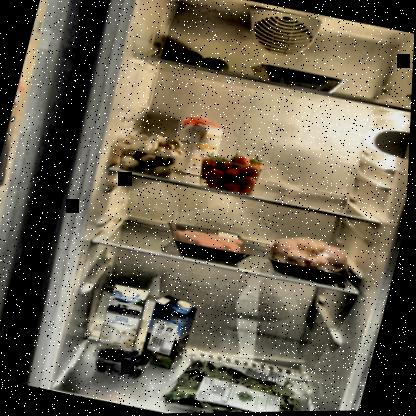blueberries: (94, 341, 155, 381)
chicken: (262, 228, 362, 289)
ground_beef: (169, 219, 250, 261)
lime: (157, 43, 234, 75)
milk: (142, 292, 202, 372), (98, 281, 158, 357)
mushrooms: (115, 126, 191, 183)
spinach: (160, 346, 348, 413)
strawberries: (192, 146, 274, 203)
